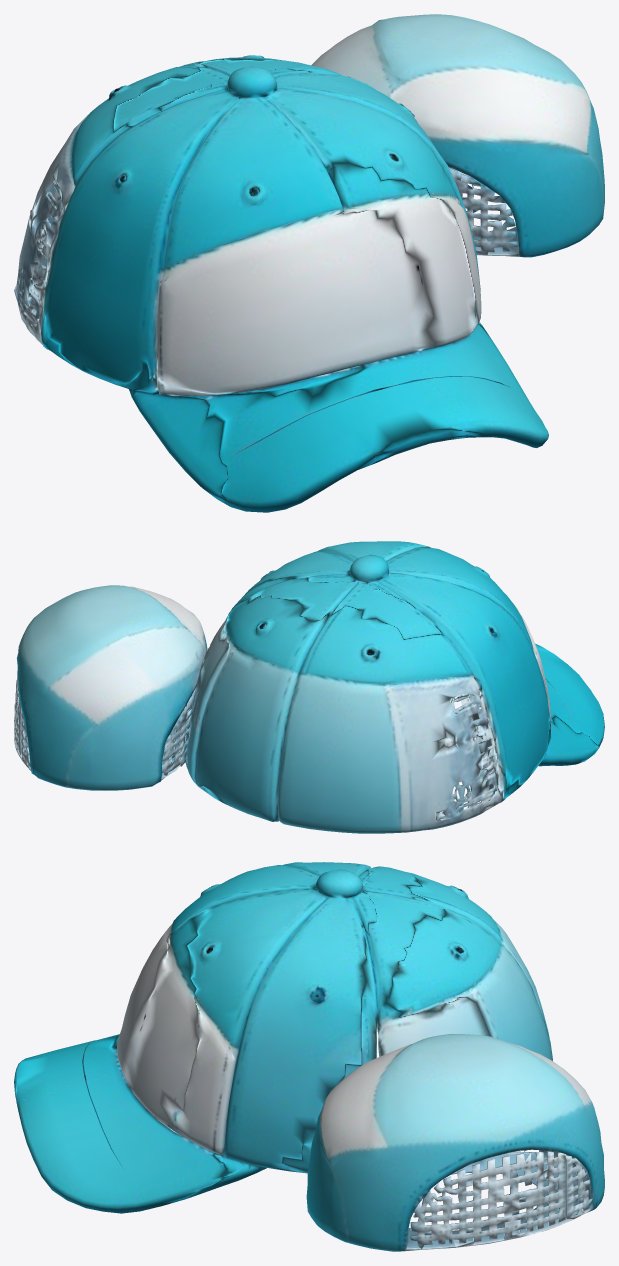
Rendered from cap.glb.
The picture shows the model from 3 angles, top to bottom: view 1: azimuth 30°, elevation 25°; view 2: azimuth 150°, elevation 25°; view 3: azimuth 270°, elevation 25°; orthographic projection. The views are drawn at different scales.
Parts seen in each view (by area): view 1: tripo_node_c8d9aea2-35fb-4990-9c46-302658a59bd3; view 2: tripo_node_c8d9aea2-35fb-4990-9c46-302658a59bd3; view 3: tripo_node_c8d9aea2-35fb-4990-9c46-302658a59bd3.
Part boxes in pixels (box(x1,y1,x2,y2)): tripo_node_c8d9aea2-35fb-4990-9c46-302658a59bd3: box(14, 14, 604, 512); tripo_node_c8d9aea2-35fb-4990-9c46-302658a59bd3: box(14, 541, 604, 833); tripo_node_c8d9aea2-35fb-4990-9c46-302658a59bd3: box(14, 862, 604, 1251).
Bounding box in the file's own units: 0.9779 × 0.4995 × 0.9779.
Materials: 1 (1 with a texture image).
